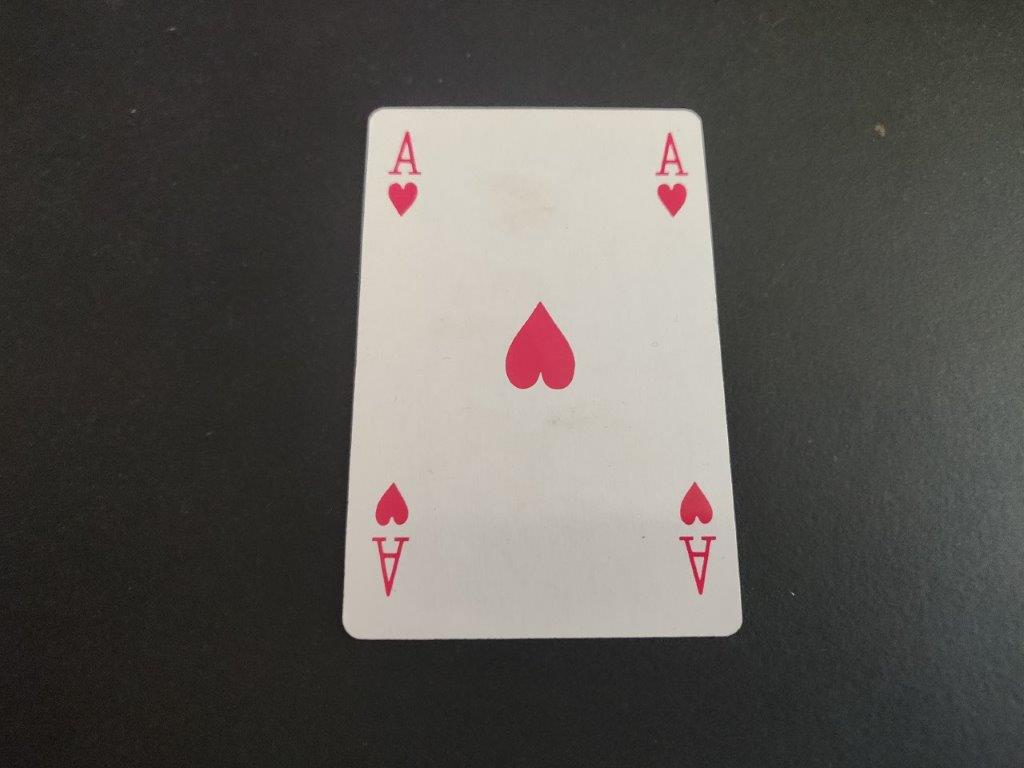AH: (646, 126, 699, 222), (381, 124, 430, 221)
